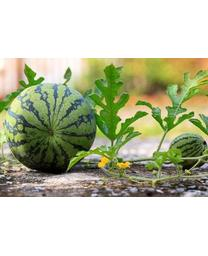watermelon: (5, 84, 97, 175)
